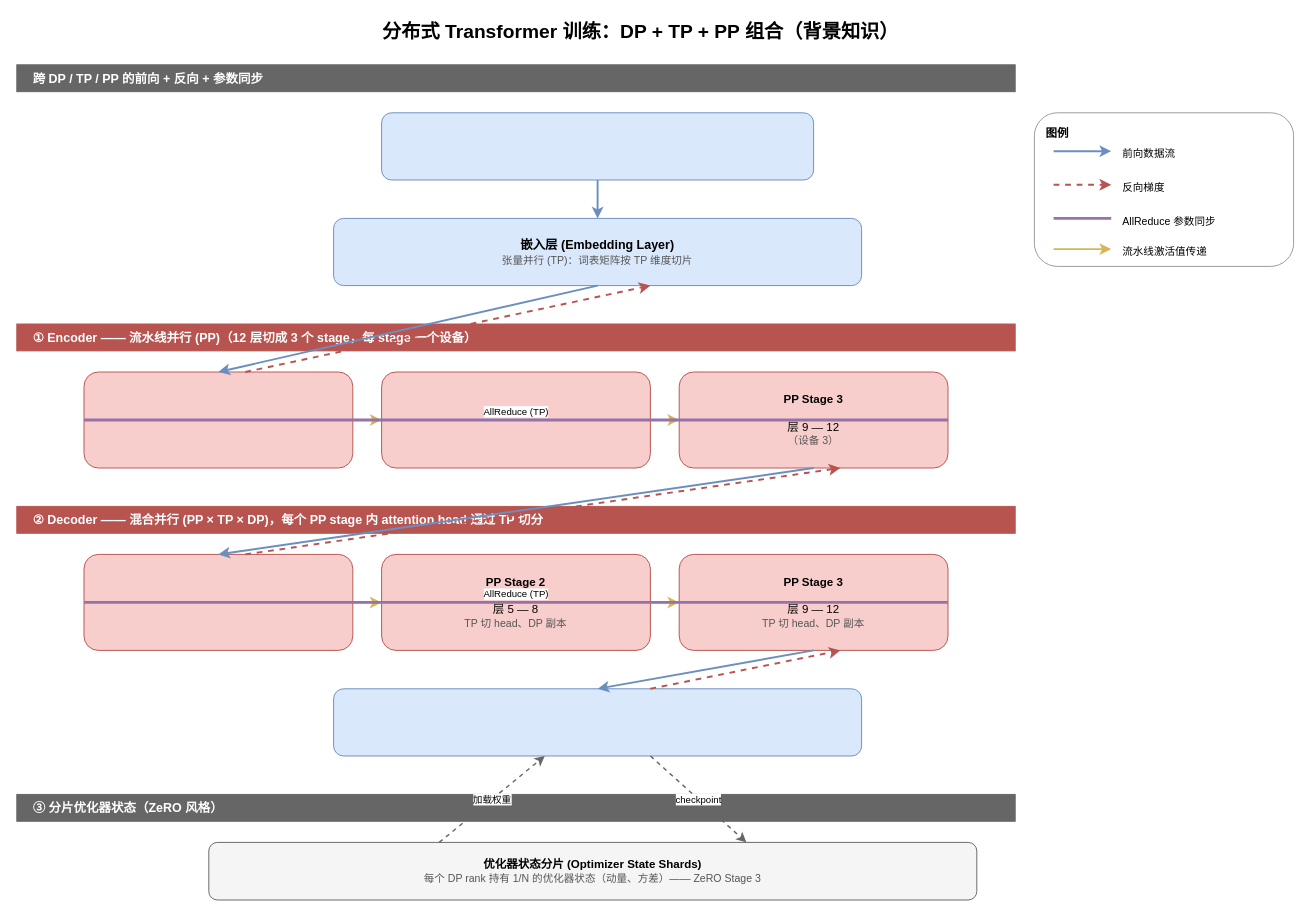
The diagram is 1310 pixels wide and 917 high, and some of its shapes have lost their labels. Here are the shapes that lost their labels. From the top down, the box of each, then its label:
(381, 112, 814, 180): 输入层 (Input Layer) 数据并行 (DP)：batch 在 N 个 worker 间切分
(83, 371, 353, 468): PP Stage 1 层 1 — 4 （设备 1）
(381, 371, 650, 468): PP Stage 2 层 5 — 8 （设备 2）
(83, 553, 353, 650): PP Stage 1 层 1 — 4 TP 切 head、DP 副本
(333, 688, 862, 756): 输出层 (Output Layer) DP + TP（logits 投影，词表分区）
